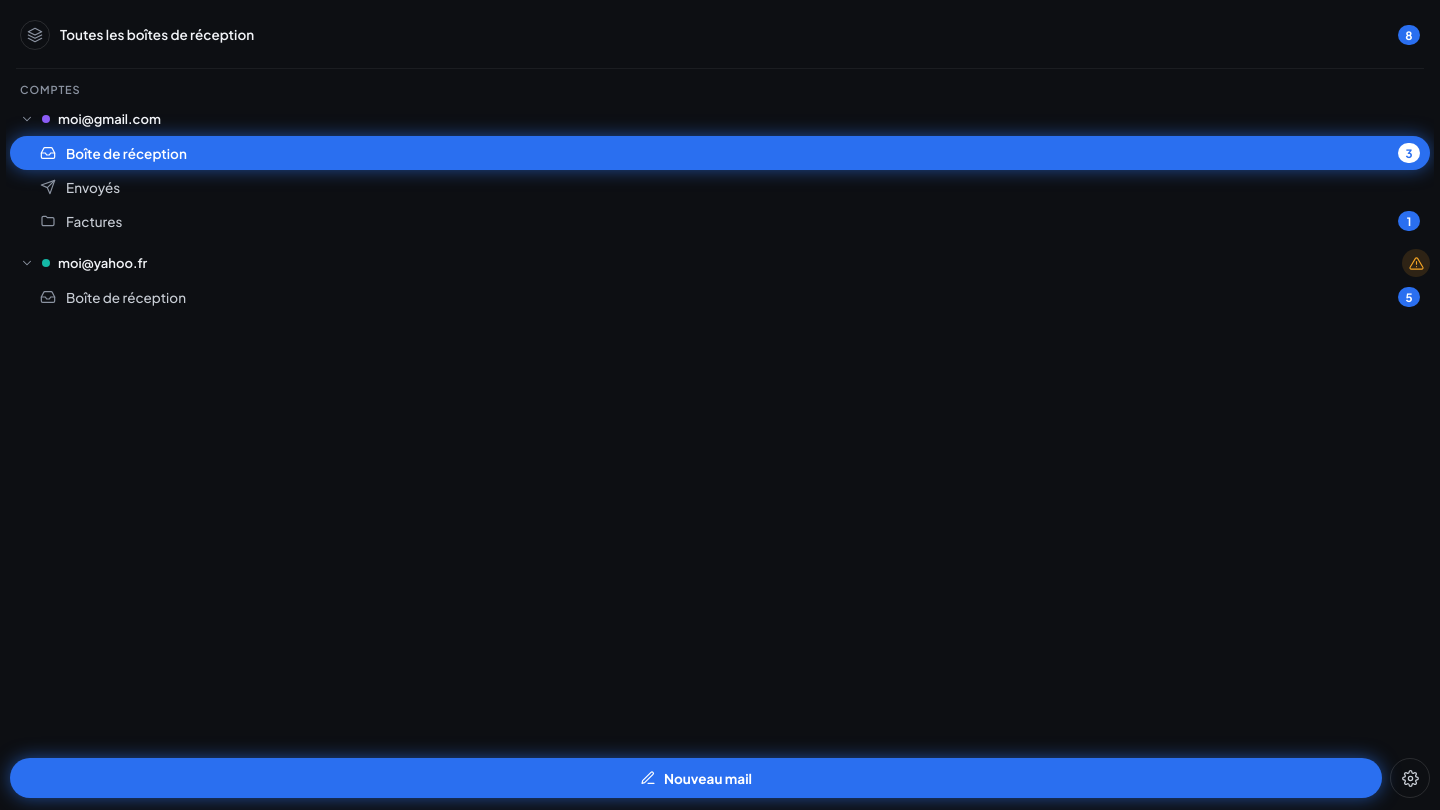
Scenario: collapsing an account hides its folders
Click the button with aria-label "Replier moi@gmail.com" at (109, 119), box [10,102,1430,136]
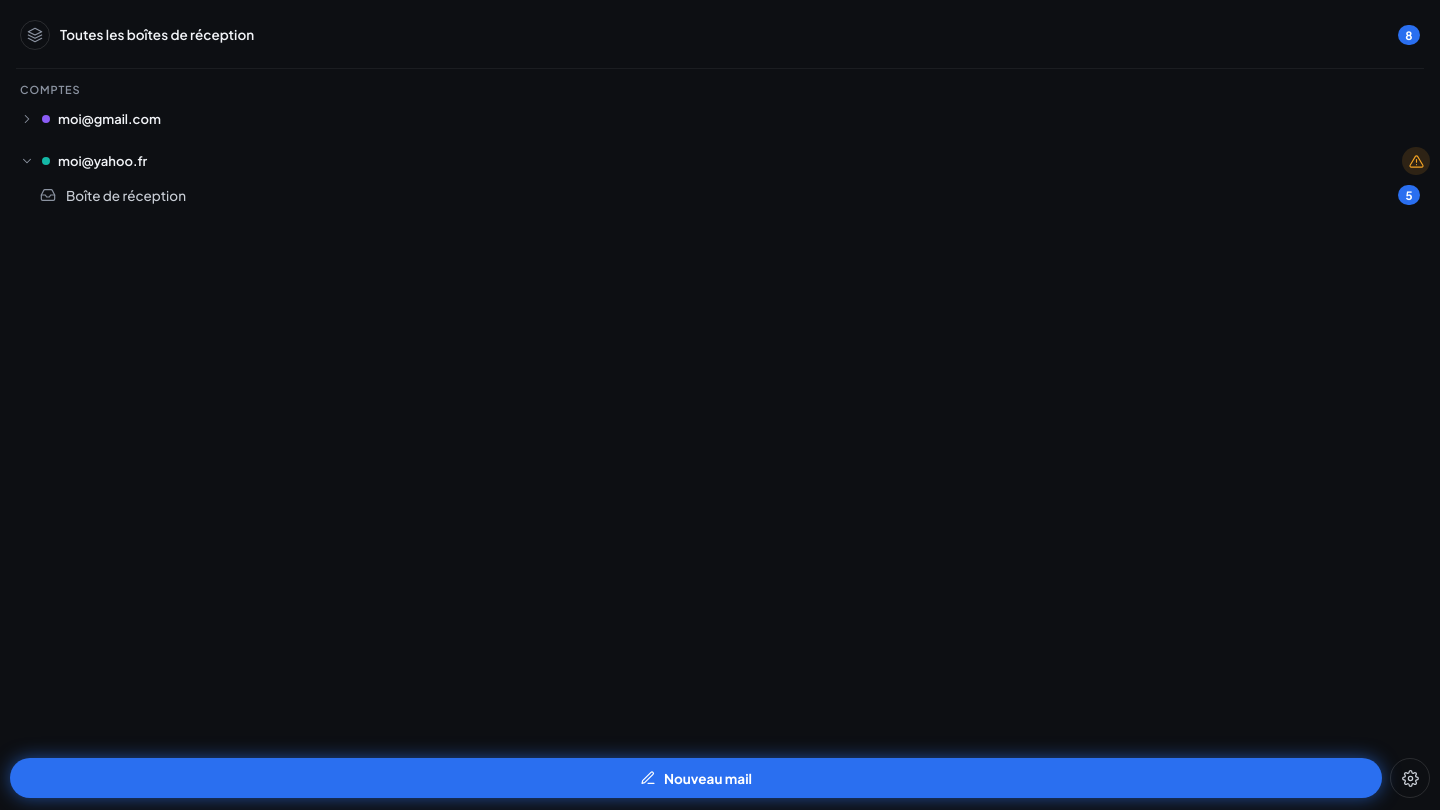
Now the button "Factures" is gone
